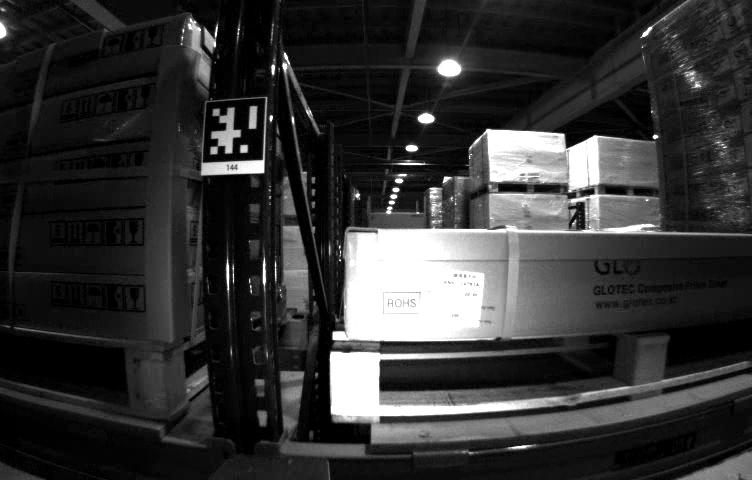True Barcode: (427, 265, 485, 330)
